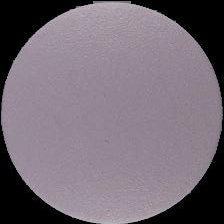0781-1053: (0, 0, 224, 224)
